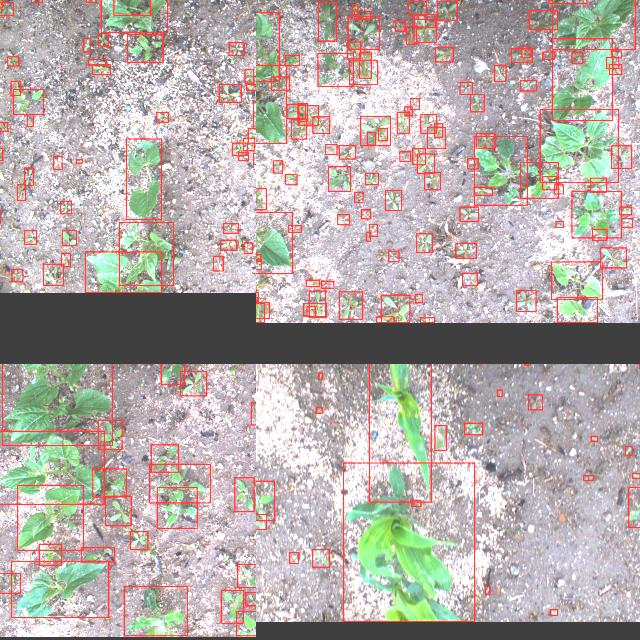crop: (342, 462, 473, 622), (2, 364, 112, 445), (368, 364, 430, 502), (0, 430, 103, 503), (539, 110, 617, 182), (11, 562, 108, 618), (552, 38, 612, 120), (17, 485, 83, 551), (551, 0, 634, 49), (118, 222, 172, 286), (85, 252, 161, 292), (126, 138, 160, 220), (256, 65, 286, 143), (256, 212, 291, 274), (100, 0, 167, 32), (550, 262, 602, 300), (256, 12, 279, 81), (557, 298, 597, 322), (113, 0, 150, 14)
weed: (474, 137, 526, 206), (124, 586, 186, 636), (571, 190, 621, 238), (149, 463, 209, 502), (156, 488, 196, 528), (519, 162, 557, 198), (318, 52, 352, 86), (347, 16, 379, 48), (126, 34, 162, 62), (92, 469, 126, 497), (360, 116, 390, 146), (380, 295, 410, 323), (150, 444, 178, 472), (104, 496, 130, 526), (220, 590, 242, 624), (318, 2, 337, 40), (13, 90, 43, 114), (97, 420, 121, 450), (256, 481, 274, 521), (180, 370, 206, 396), (349, 60, 377, 84), (338, 292, 362, 320), (234, 478, 253, 512), (414, 14, 436, 42), (528, 10, 558, 30), (328, 166, 350, 192), (38, 544, 62, 566), (235, 611, 256, 636), (600, 248, 626, 268), (627, 487, 640, 527), (308, 290, 326, 318), (80, 548, 114, 562), (160, 364, 184, 383), (43, 264, 63, 286), (515, 290, 535, 312), (611, 146, 631, 168), (237, 564, 256, 587), (298, 105, 318, 125), (218, 84, 240, 102), (436, 1, 456, 20), (0, 574, 19, 594), (416, 154, 434, 174), (427, 128, 445, 148), (129, 532, 147, 550), (385, 191, 401, 211), (290, 119, 306, 139), (359, 52, 371, 78), (511, 48, 532, 62), (435, 46, 453, 62), (416, 234, 432, 252), (424, 172, 440, 190), (420, 114, 436, 132), (302, 304, 326, 316), (312, 116, 328, 134), (434, 426, 446, 450), (312, 549, 328, 567), (455, 244, 475, 258), (459, 207, 478, 221), (476, 134, 494, 148), (469, 94, 483, 112), (396, 111, 408, 132), (408, 1, 426, 15), (338, 145, 356, 159), (286, 104, 304, 118), (271, 76, 289, 90), (228, 42, 244, 56), (62, 230, 76, 246), (590, 178, 606, 192), (346, 42, 360, 58), (527, 394, 541, 410), (464, 423, 482, 435), (542, 176, 556, 190), (494, 65, 506, 81), (412, 148, 424, 164), (256, 303, 268, 319), (256, 188, 265, 209), (91, 64, 109, 74), (406, 26, 416, 44), (297, 103, 307, 121), (413, 19, 435, 27), (220, 240, 237, 250), (24, 230, 36, 244), (232, 143, 246, 155), (462, 274, 476, 286), (23, 168, 32, 186), (213, 256, 223, 272), (222, 223, 238, 233), (10, 80, 20, 96), (520, 80, 536, 90), (284, 55, 300, 65), (0, 2, 12, 15), (364, 173, 378, 184), (245, 592, 256, 606), (256, 303, 264, 322), (242, 138, 254, 150), (473, 187, 491, 195), (459, 82, 471, 94), (98, 32, 108, 46), (60, 253, 70, 267), (592, 230, 606, 240), (247, 127, 256, 142), (256, 514, 265, 529), (337, 213, 349, 224), (250, 403, 256, 425), (60, 200, 70, 213), (17, 185, 25, 201), (354, 11, 370, 19), (244, 69, 253, 83), (156, 112, 168, 122), (12, 270, 22, 282), (620, 218, 632, 228), (571, 52, 581, 64), (609, 64, 621, 74), (606, 58, 618, 68), (388, 250, 398, 262), (324, 144, 336, 154), (366, 133, 376, 145), (272, 161, 282, 173), (53, 156, 61, 170), (82, 38, 90, 52), (434, 123, 442, 137), (398, 151, 409, 161), (376, 317, 394, 323), (409, 98, 418, 110), (378, 128, 387, 140), (8, 56, 18, 66), (467, 159, 477, 169), (394, 20, 404, 30), (286, 175, 296, 185), (619, 207, 631, 215), (542, 51, 554, 59), (522, 46, 530, 58), (369, 224, 377, 236), (290, 552, 298, 564), (305, 280, 319, 286), (288, 225, 300, 232), (243, 243, 251, 253), (238, 153, 248, 161), (414, 294, 422, 304), (360, 210, 370, 218), (354, 192, 362, 202), (306, 307, 314, 317), (624, 446, 632, 456), (27, 114, 33, 126), (88, 60, 106, 64), (554, 184, 562, 193), (404, 106, 412, 115), (321, 282, 333, 288), (0, 122, 7, 132), (610, 51, 620, 58), (412, 499, 421, 506), (246, 84, 256, 90), (351, 4, 357, 14), (420, 318, 434, 322), (256, 260, 261, 270), (555, 221, 563, 227), (484, 587, 490, 595), (549, 610, 557, 616), (252, 153, 256, 164), (496, 389, 502, 396), (366, 232, 370, 242), (583, 476, 593, 480), (590, 436, 596, 442), (631, 474, 639, 478), (0, 147, 2, 160), (318, 373, 322, 379), (315, 408, 321, 412), (30, 0, 41, 2), (256, 254, 259, 261), (256, 292, 258, 301), (76, 160, 82, 162)
